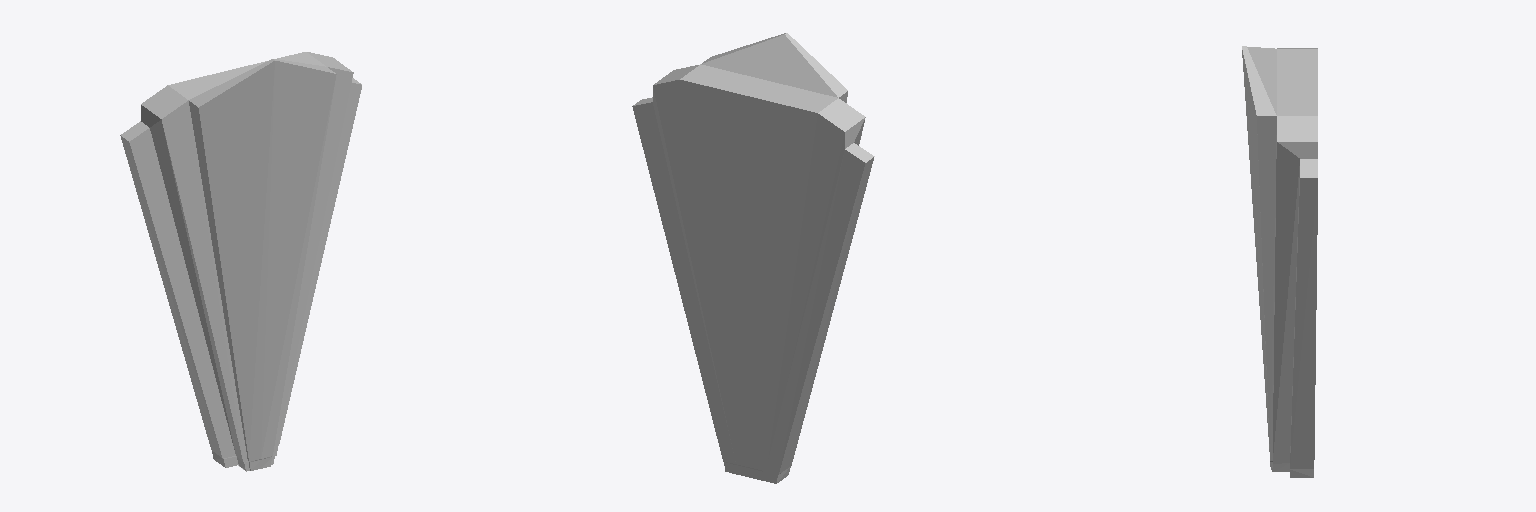
File: wall sconce.obj
3 renders of one model, left to right at view 1: azimuth 30°, elevation 25°; view 2: azimuth 150°, elevation 25°; view 3: azimuth 270°, elevation 25°, orthographic.
Visible parts, largest first — view 1: pCube1; view 2: pCube1; view 3: pCube1.
Part boxes in pixels (left/top/right/bottom): pCube1: left=120, top=52, right=361, bottom=471; pCube1: left=632, top=33, right=874, bottom=483; pCube1: left=1242, top=46, right=1317, bottom=477.
Size of the model in its own units: 2.5 by 4.29 by 0.7091.